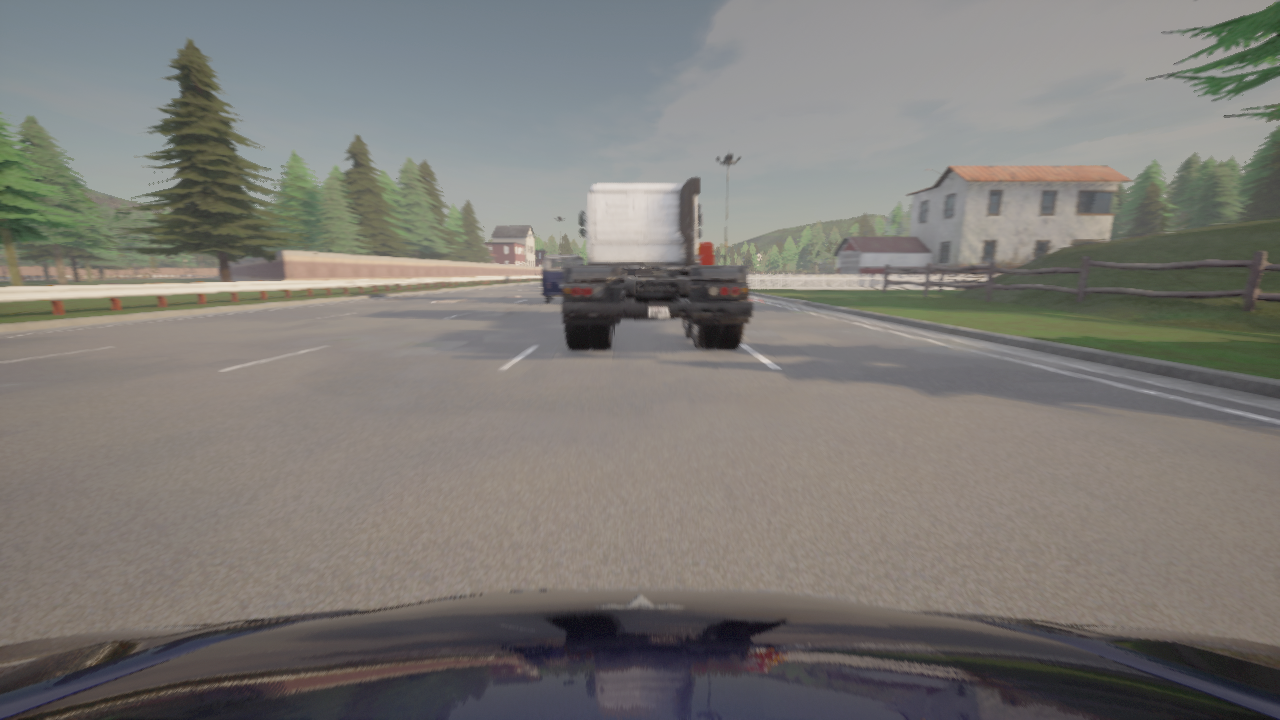cyclist: (0, 588, 1279, 719), (562, 177, 752, 348), (542, 254, 583, 302), (698, 242, 713, 265)
